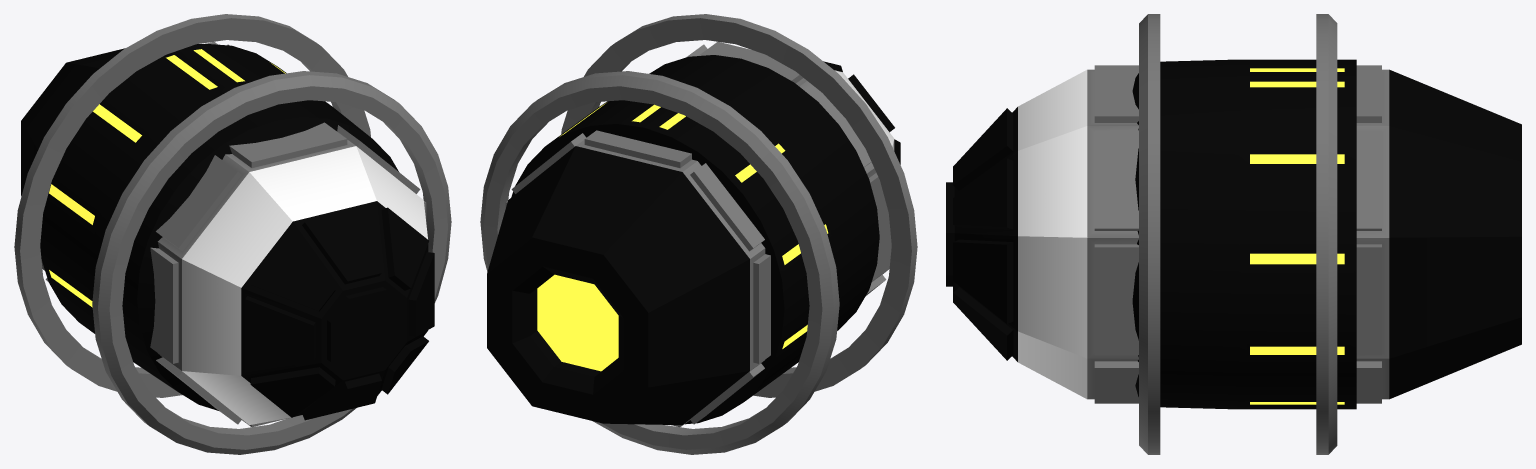
Rendered from 01_ship_hero_shuttle.glb.
3 views of the same model, side by side, from view 1: azimuth 30°, elevation 25°; view 2: azimuth 150°, elevation 25°; view 3: azimuth 270°, elevation 25° (orthographic). The views are drawn at different scales.
Parts seen in each view (by area): view 1: 01_ship_hero_shuttle; view 2: 01_ship_hero_shuttle; view 3: 01_ship_hero_shuttle.
Part boxes in pixels (left/top/right/bottom): 01_ship_hero_shuttle: left=14, top=14, right=451, bottom=454; 01_ship_hero_shuttle: left=480, top=14, right=917, bottom=454; 01_ship_hero_shuttle: left=946, top=14, right=1521, bottom=454.
Bounding box in the file's own units: 0.7781 × 0.7781 × 1.02.
